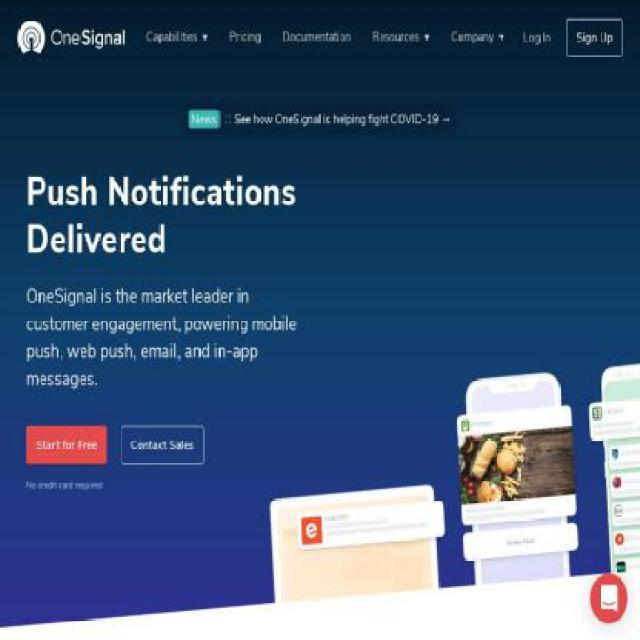button: (184, 103, 456, 135), (18, 8, 125, 66), (121, 425, 204, 464), (26, 425, 108, 464), (272, 20, 362, 54), (135, 20, 219, 54), (362, 20, 440, 54), (440, 20, 515, 54), (566, 17, 623, 57), (589, 573, 628, 624), (218, 20, 272, 54), (522, 17, 552, 57)
